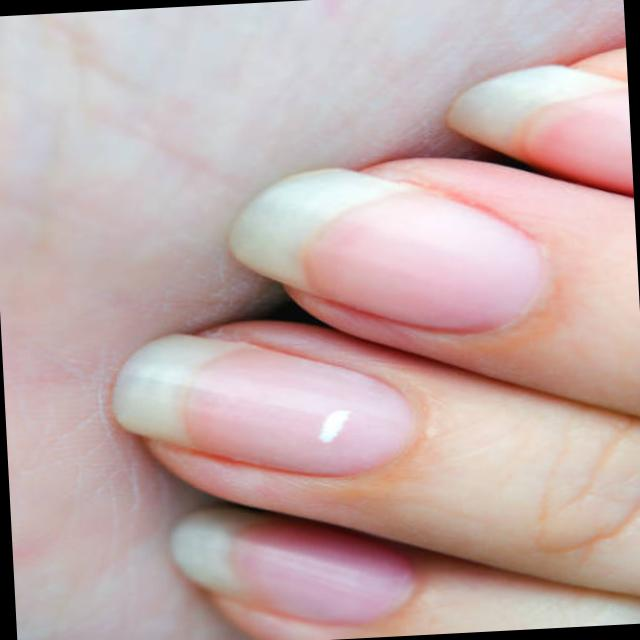Nail: (230, 169, 539, 332), (113, 335, 411, 476), (171, 509, 411, 625), (447, 65, 630, 194)
